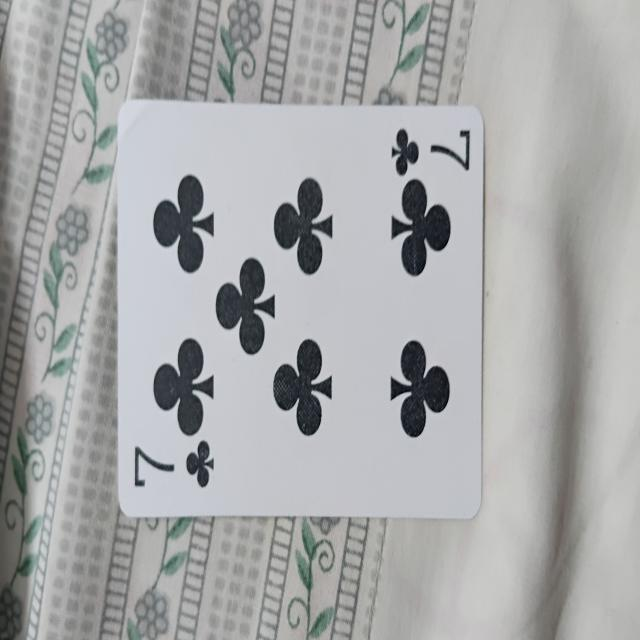7C: (115, 95, 487, 527)
